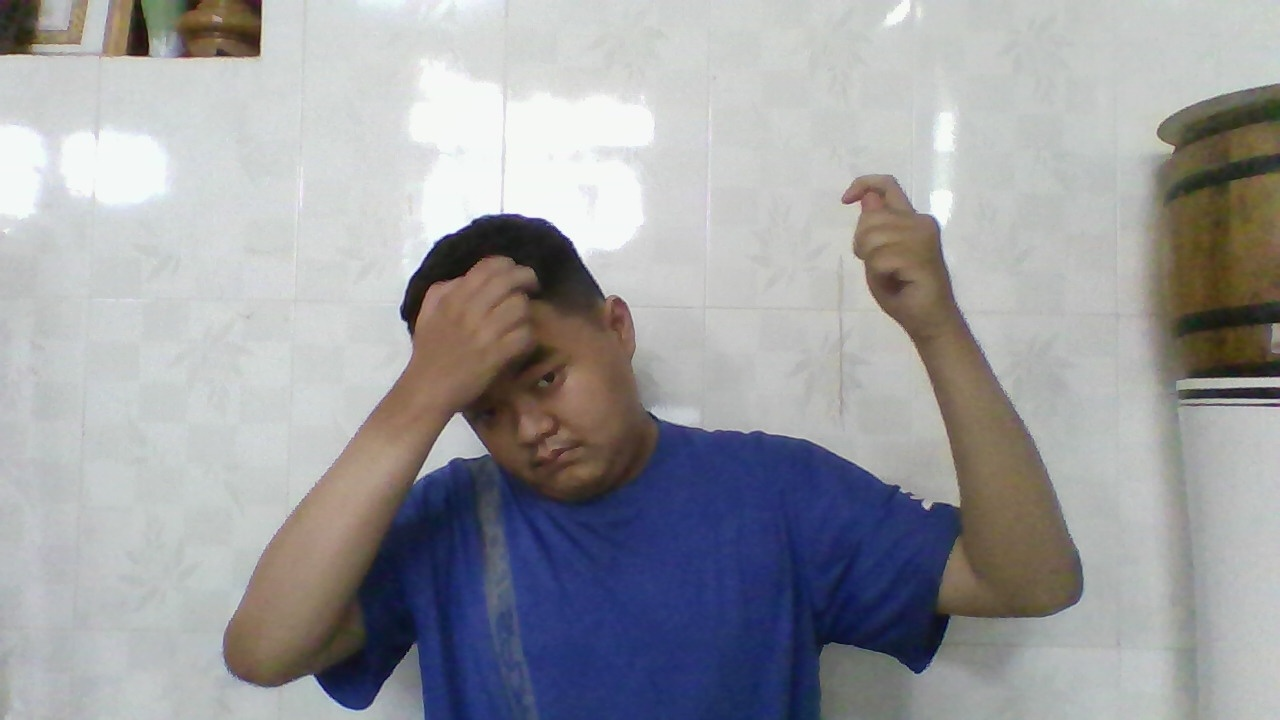X: (827, 165, 950, 343)
